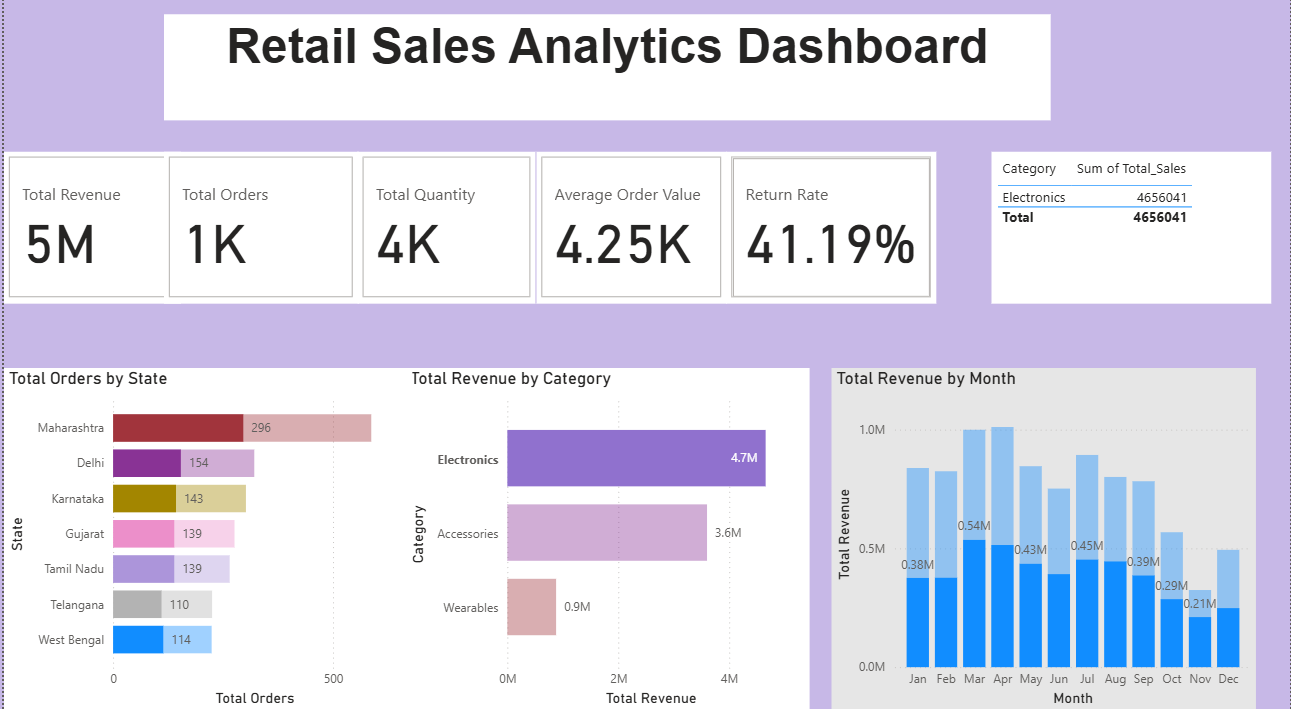

This screenshot's page, from the dashboard's own definition file:
{"tool":"powerbi","page":{"name":"Page 1","canvas":[1280,720],"ordinal":0},"visuals":[{"type":"tableEx","fields":{"Values":["Dim_Product.Category","Sum(Fact_sales.Total_Sales)"]},"box":[982.5,163.3,278.6,150.9],"z":0},{"type":"cardVisual","fields":{"Data":["Fact_sales.Total Revenue"]},"box":[0,163.3,175.6,150.9],"z":1000},{"type":"cardVisual","fields":{"Data":["Fact_sales.Total Orders"]},"box":[159.2,163.3,193.5,150.9],"z":2000},{"type":"cardVisual","fields":{"Data":["Fact_sales.Total Quantity"]},"box":[352.7,163.3,177,150.9],"z":3000},{"type":"cardVisual","fields":{"Data":["Fact_sales.Average Order Value"]},"box":[529.7,163.3,189.4,150.9],"z":4000},{"type":"cardVisual","fields":{"Data":["Fact_sales.Return Rate"]},"box":[719,163.3,208.6,150.9],"z":5000},{"type":"clusteredBarChart","fields":{"Category":["Dim_Product.Category"],"Y":["Fact_sales.Total Revenue"]},"box":[399.3,378.7,402.1,341.7],"z":6000},{"type":"clusteredBarChart","fields":{"Category":["Dim_Customer.State"],"Y":["Fact_sales.Total Orders"]},"box":[0,378.7,406.2,341.7],"z":7000},{"type":"columnChart","fields":{"Category":["Dim_Date.Month"],"Y":["Fact_sales.Total Revenue"]},"box":[823.3,378.7,422.6,341.7],"z":8000},{"type":"textbox","box":[159.2,26.1,882.3,105.7],"z":9000}]}

Visuals, with their boxes in screenshot pixels (x1, y1, x2, y2), scaled from the page's 1280x720 canvas onto the 1291x709 screenshot:
tableEx - Dim_Product.Category x Sum(Fact_sales.Total_Sales): 991/161/1272/309
cardVisual - Fact_sales.Total Revenue: 0/161/177/309
cardVisual - Fact_sales.Total Orders: 161/161/356/309
cardVisual - Fact_sales.Total Quantity: 356/161/534/309
cardVisual - Fact_sales.Average Order Value: 534/161/725/309
cardVisual - Fact_sales.Return Rate: 725/161/936/309
clusteredBarChart - Dim_Product.Category x Fact_sales.Total Revenue: 403/373/808/708
clusteredBarChart - Dim_Customer.State x Fact_sales.Total Orders: 0/373/410/708
columnChart - Dim_Date.Month x Fact_sales.Total Revenue: 830/373/1257/708
textbox: 161/26/1050/130
